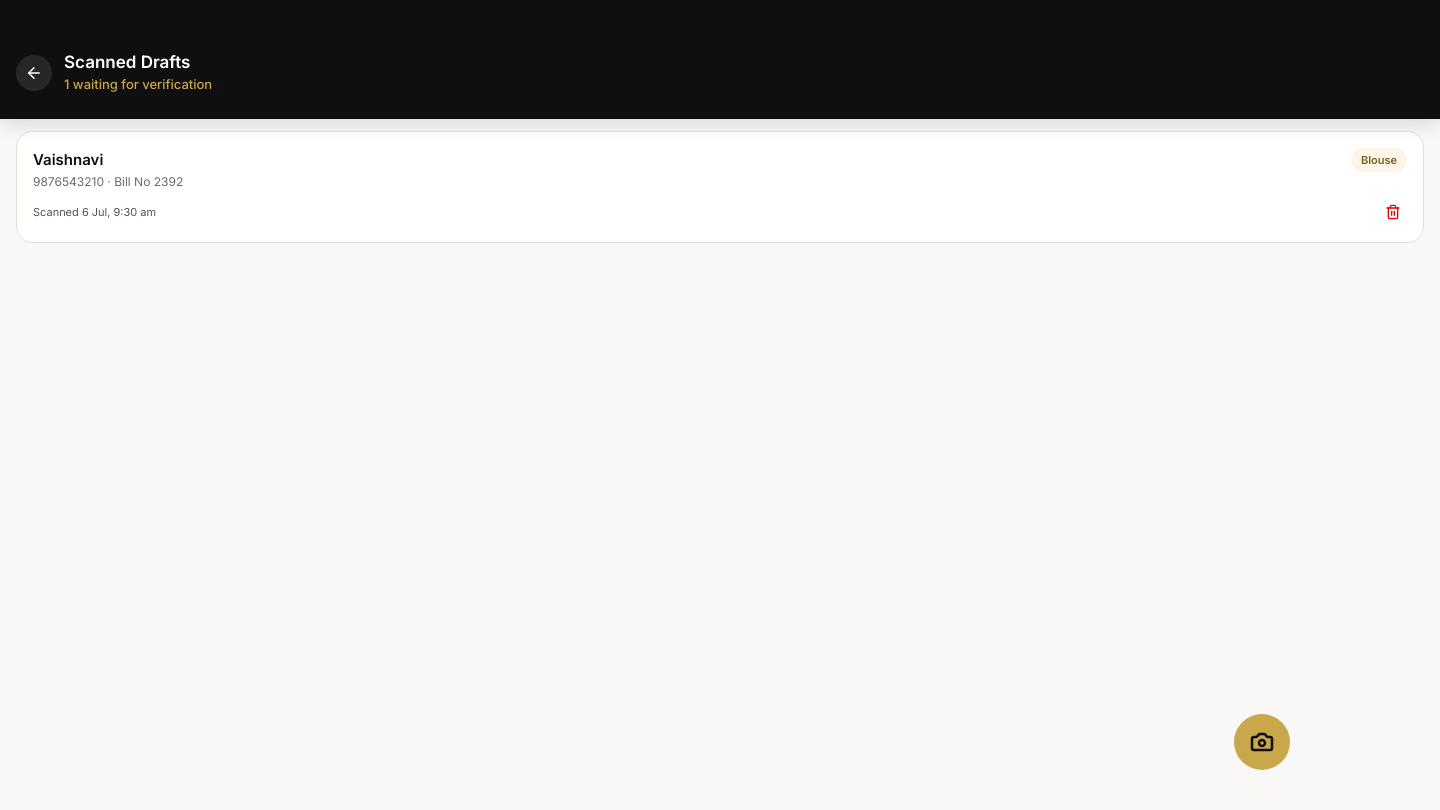
Test: DraftsBody › keeps the card and shows a toast when discarding fails
This screenshot has width=1440, height=810.
Click the button named "Discard draft for Vaishnavi".
click(1393, 212)  # box [1379, 198, 1407, 226]
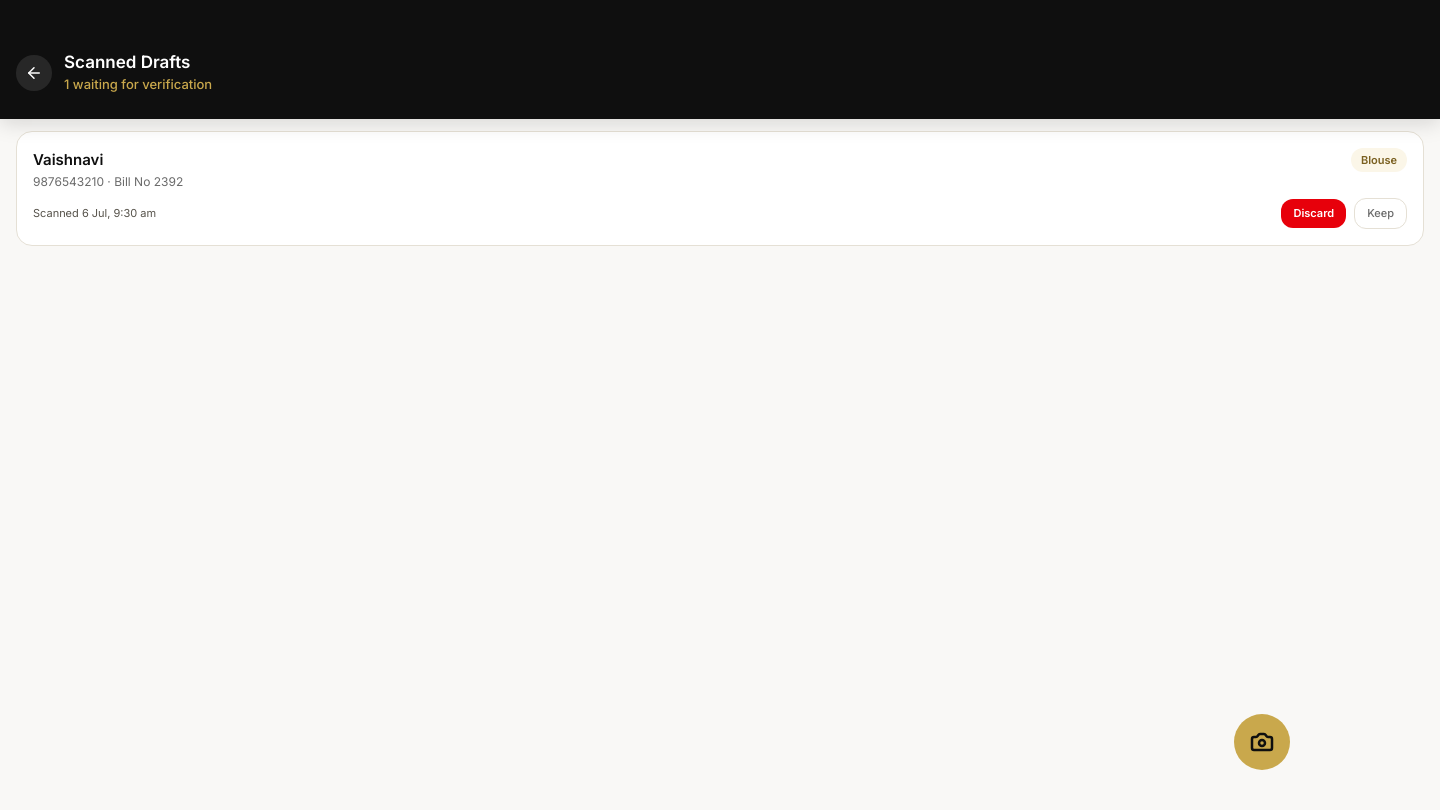
Click the button "Discard".
click(1314, 214)  # box [1282, 199, 1346, 228]
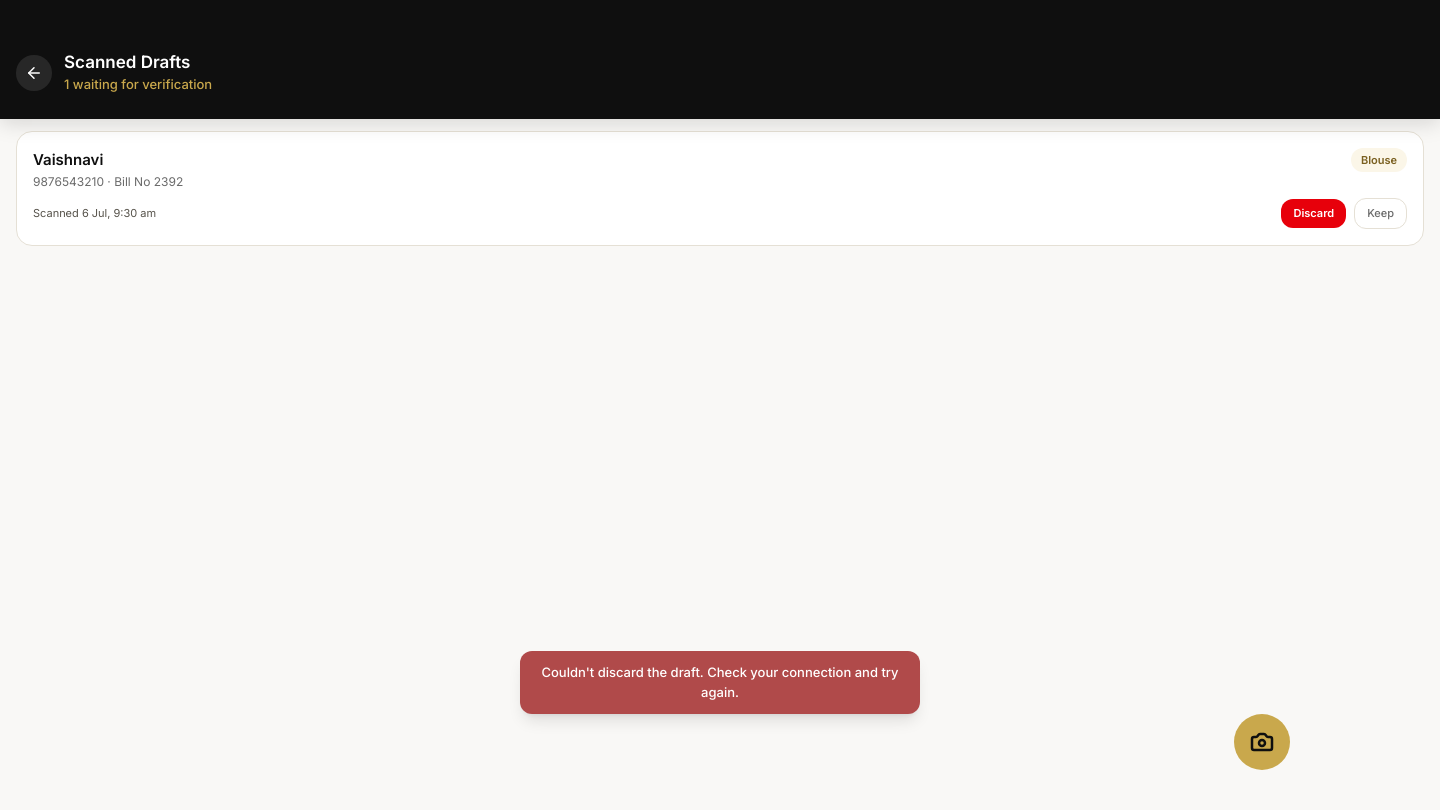
expect the text "Vaishnavi" is shown: met, box [33, 149, 103, 171]
expect the text "Couldn't discard the draft. Check your connection and try again." is shown: met, box [520, 651, 920, 714]
